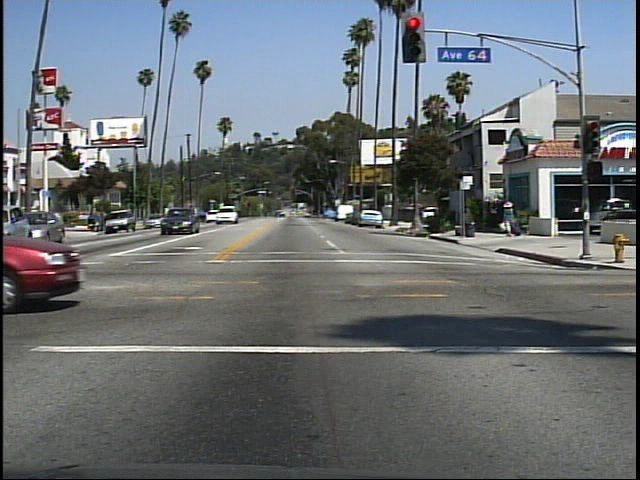person: (497, 194, 523, 245)
